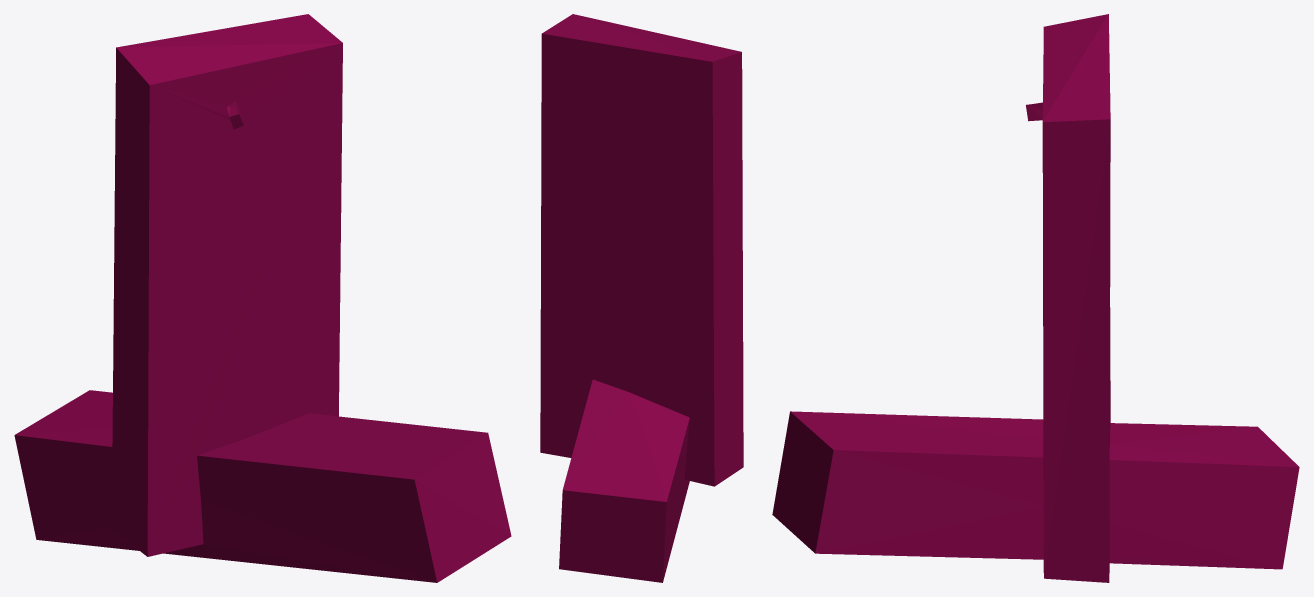
The picture shows the model from 3 angles, left to right: view 1: azimuth 30°, elevation 25°; view 2: azimuth 150°, elevation 25°; view 3: azimuth 270°, elevation 25°; orthographic projection. The views are drawn at different scales.
Visible parts, largest first — view 1: 966_Cube.3907; view 2: 966_Cube.3907; view 3: 966_Cube.3907.
Part boxes in pixels (box(x1,y1,x2,y2)): 966_Cube.3907: box(14, 14, 511, 582); 966_Cube.3907: box(540, 14, 743, 582); 966_Cube.3907: box(772, 14, 1299, 582).
Bounding box in the file's own units: 7.08 × 13.57 × 12.4.
